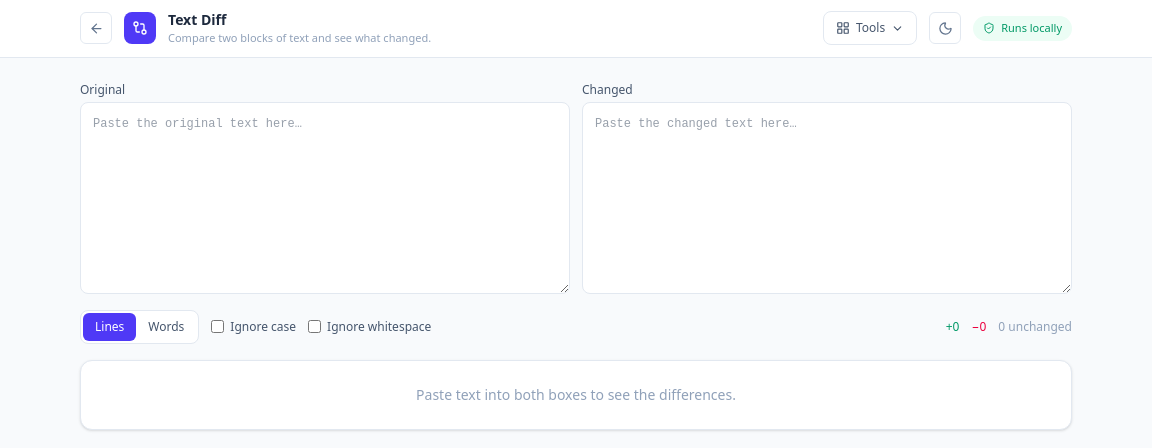
Test case: DiffApp › says the texts are identical when equal
This screenshot has width=1152, height=448.
Type "same" into the text box named "original text" at (325, 198), box [80,102,570,294]
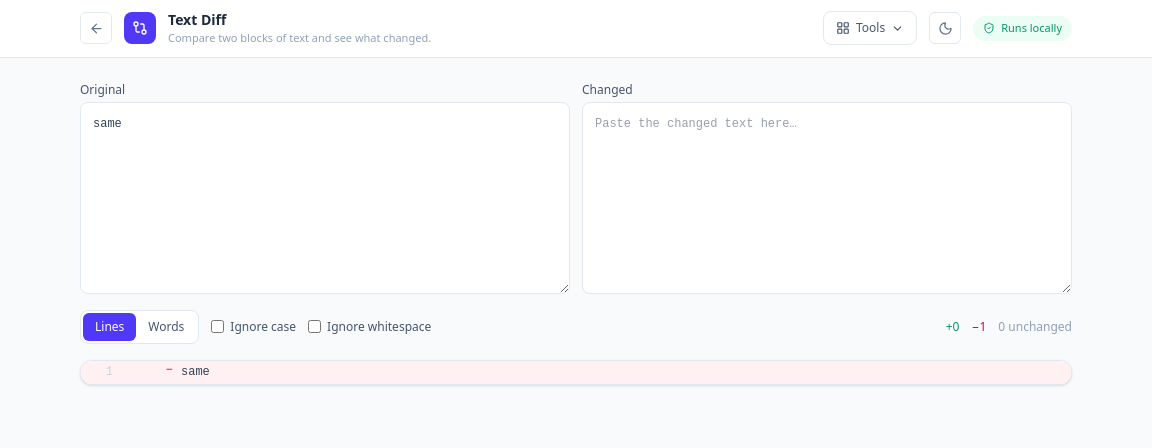
Type "same" into the text box named "changed text" at (827, 198), box [582,102,1072,294]
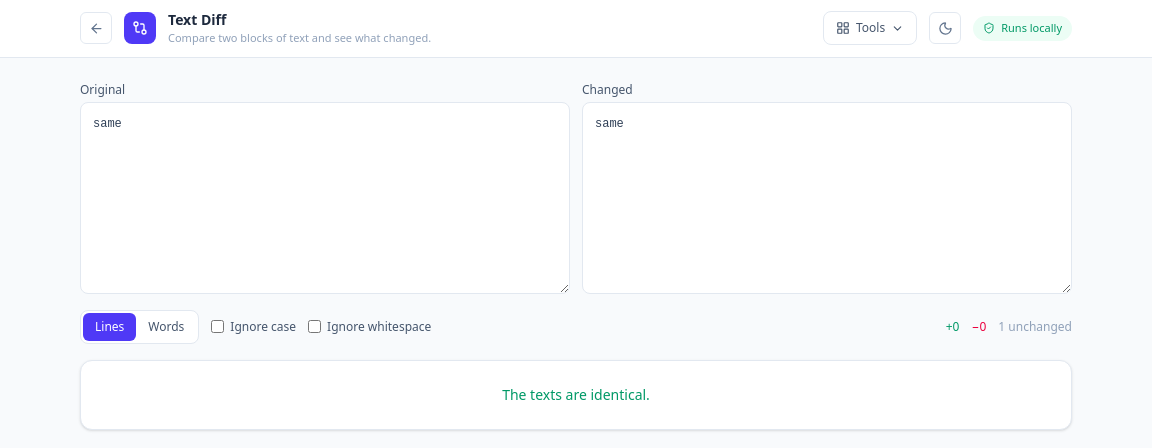
Result: the text "The texts are identical." is shown at [502,384,650,404]
